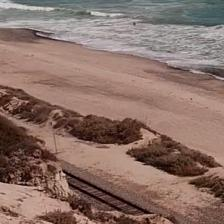surfer: (133, 22, 136, 25)
